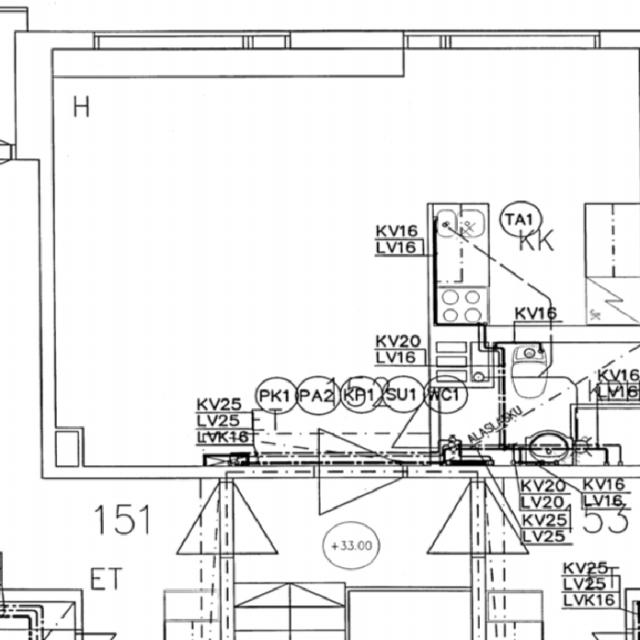door: (318, 390, 404, 478), (318, 465, 404, 553), (367, 393, 439, 446)
